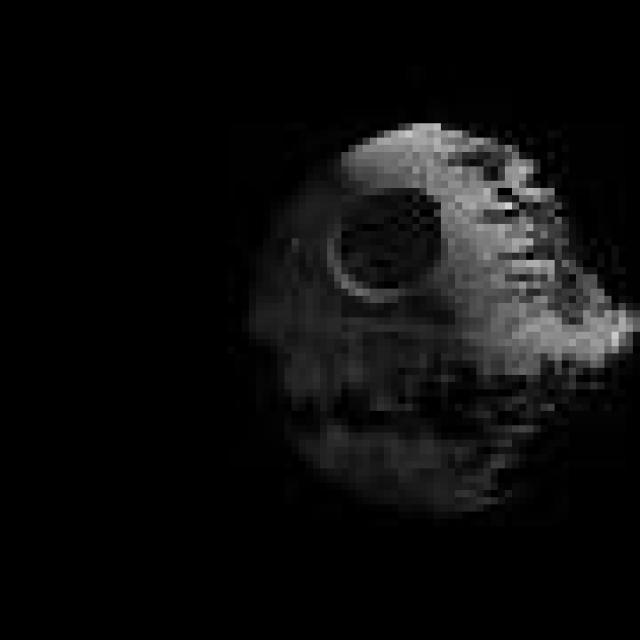Death Star: (235, 115, 633, 525)
